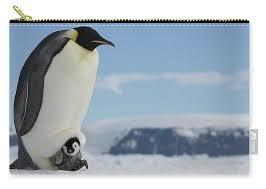emporer: (7, 23, 123, 181)
